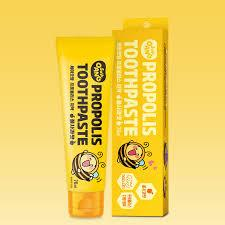toothpaste: (48, 29, 116, 218)
